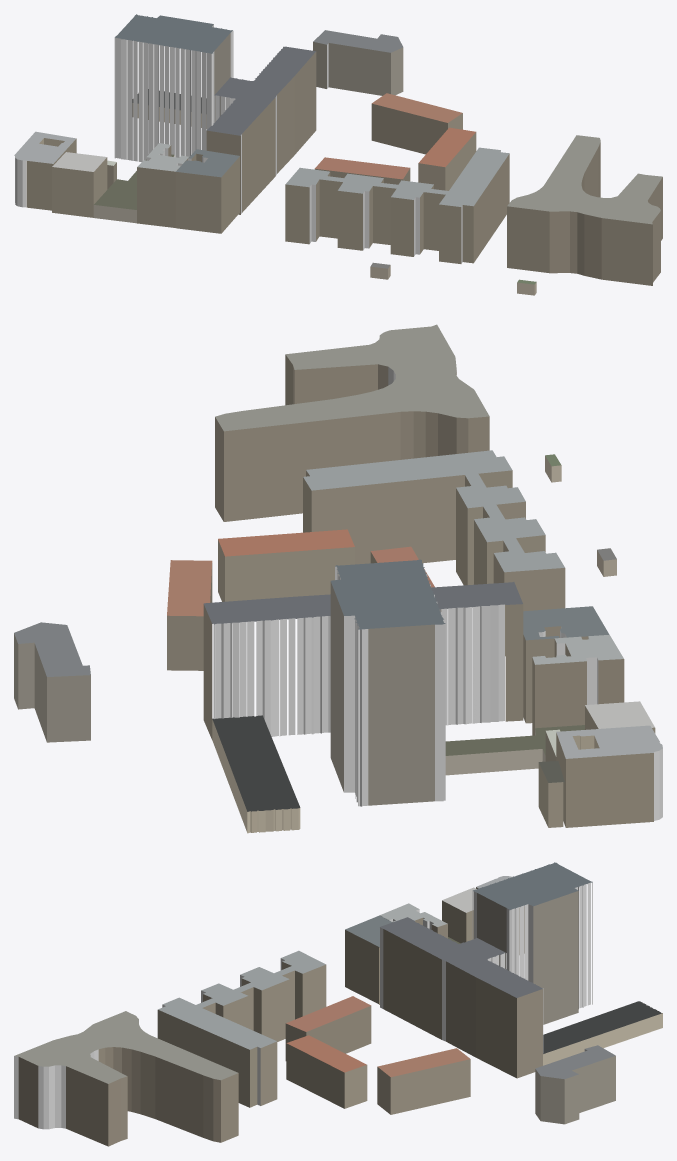
3 views of the same model, one above another, from view 1: azimuth 30°, elevation 25°; view 2: azimuth 150°, elevation 25°; view 3: azimuth 270°, elevation 25° (orthographic). The views are drawn at different scales.
Visible parts, largest first — view 1: tuile; view 2: tuile; view 3: tuile.
Boxes of the visible parts, x1=… form: tuile: x1=14, y1=14, x2=662, y2=295; tuile: x1=14, y1=324, x2=662, y2=833; tuile: x1=14, y1=862, x2=662, y2=1146.
Bounding box in the file's own units: 208 × 54.51 × 256.
